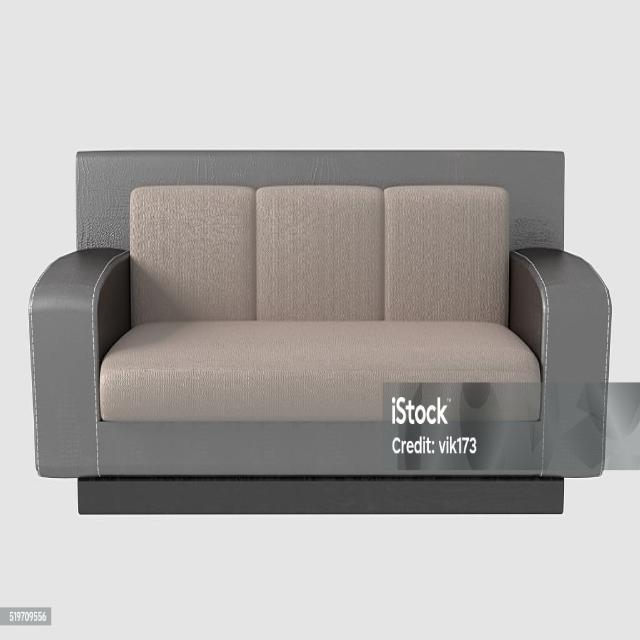back_cushion: (130, 186, 508, 323)
base: (98, 418, 539, 476)
left_arm: (509, 249, 611, 476)
right_arm: (29, 249, 130, 476)
seat_cushion: (99, 323, 541, 425)
stallion-sofa1: (0, 3, 639, 639)
